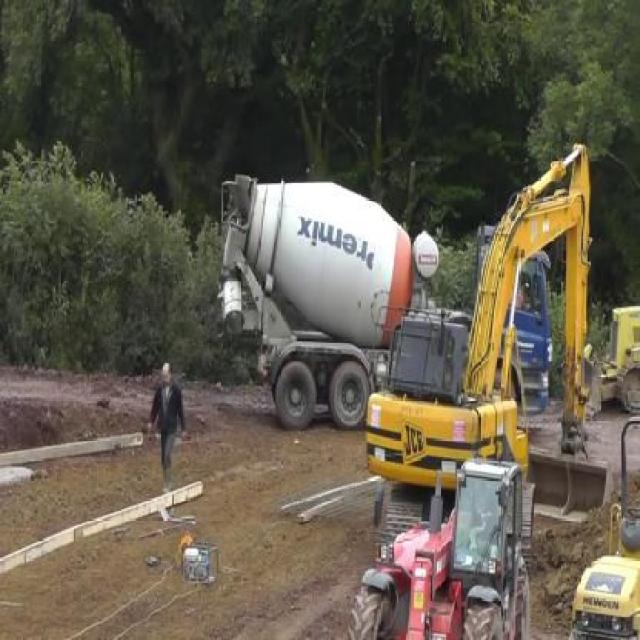Excavator: (368, 140, 590, 549)
